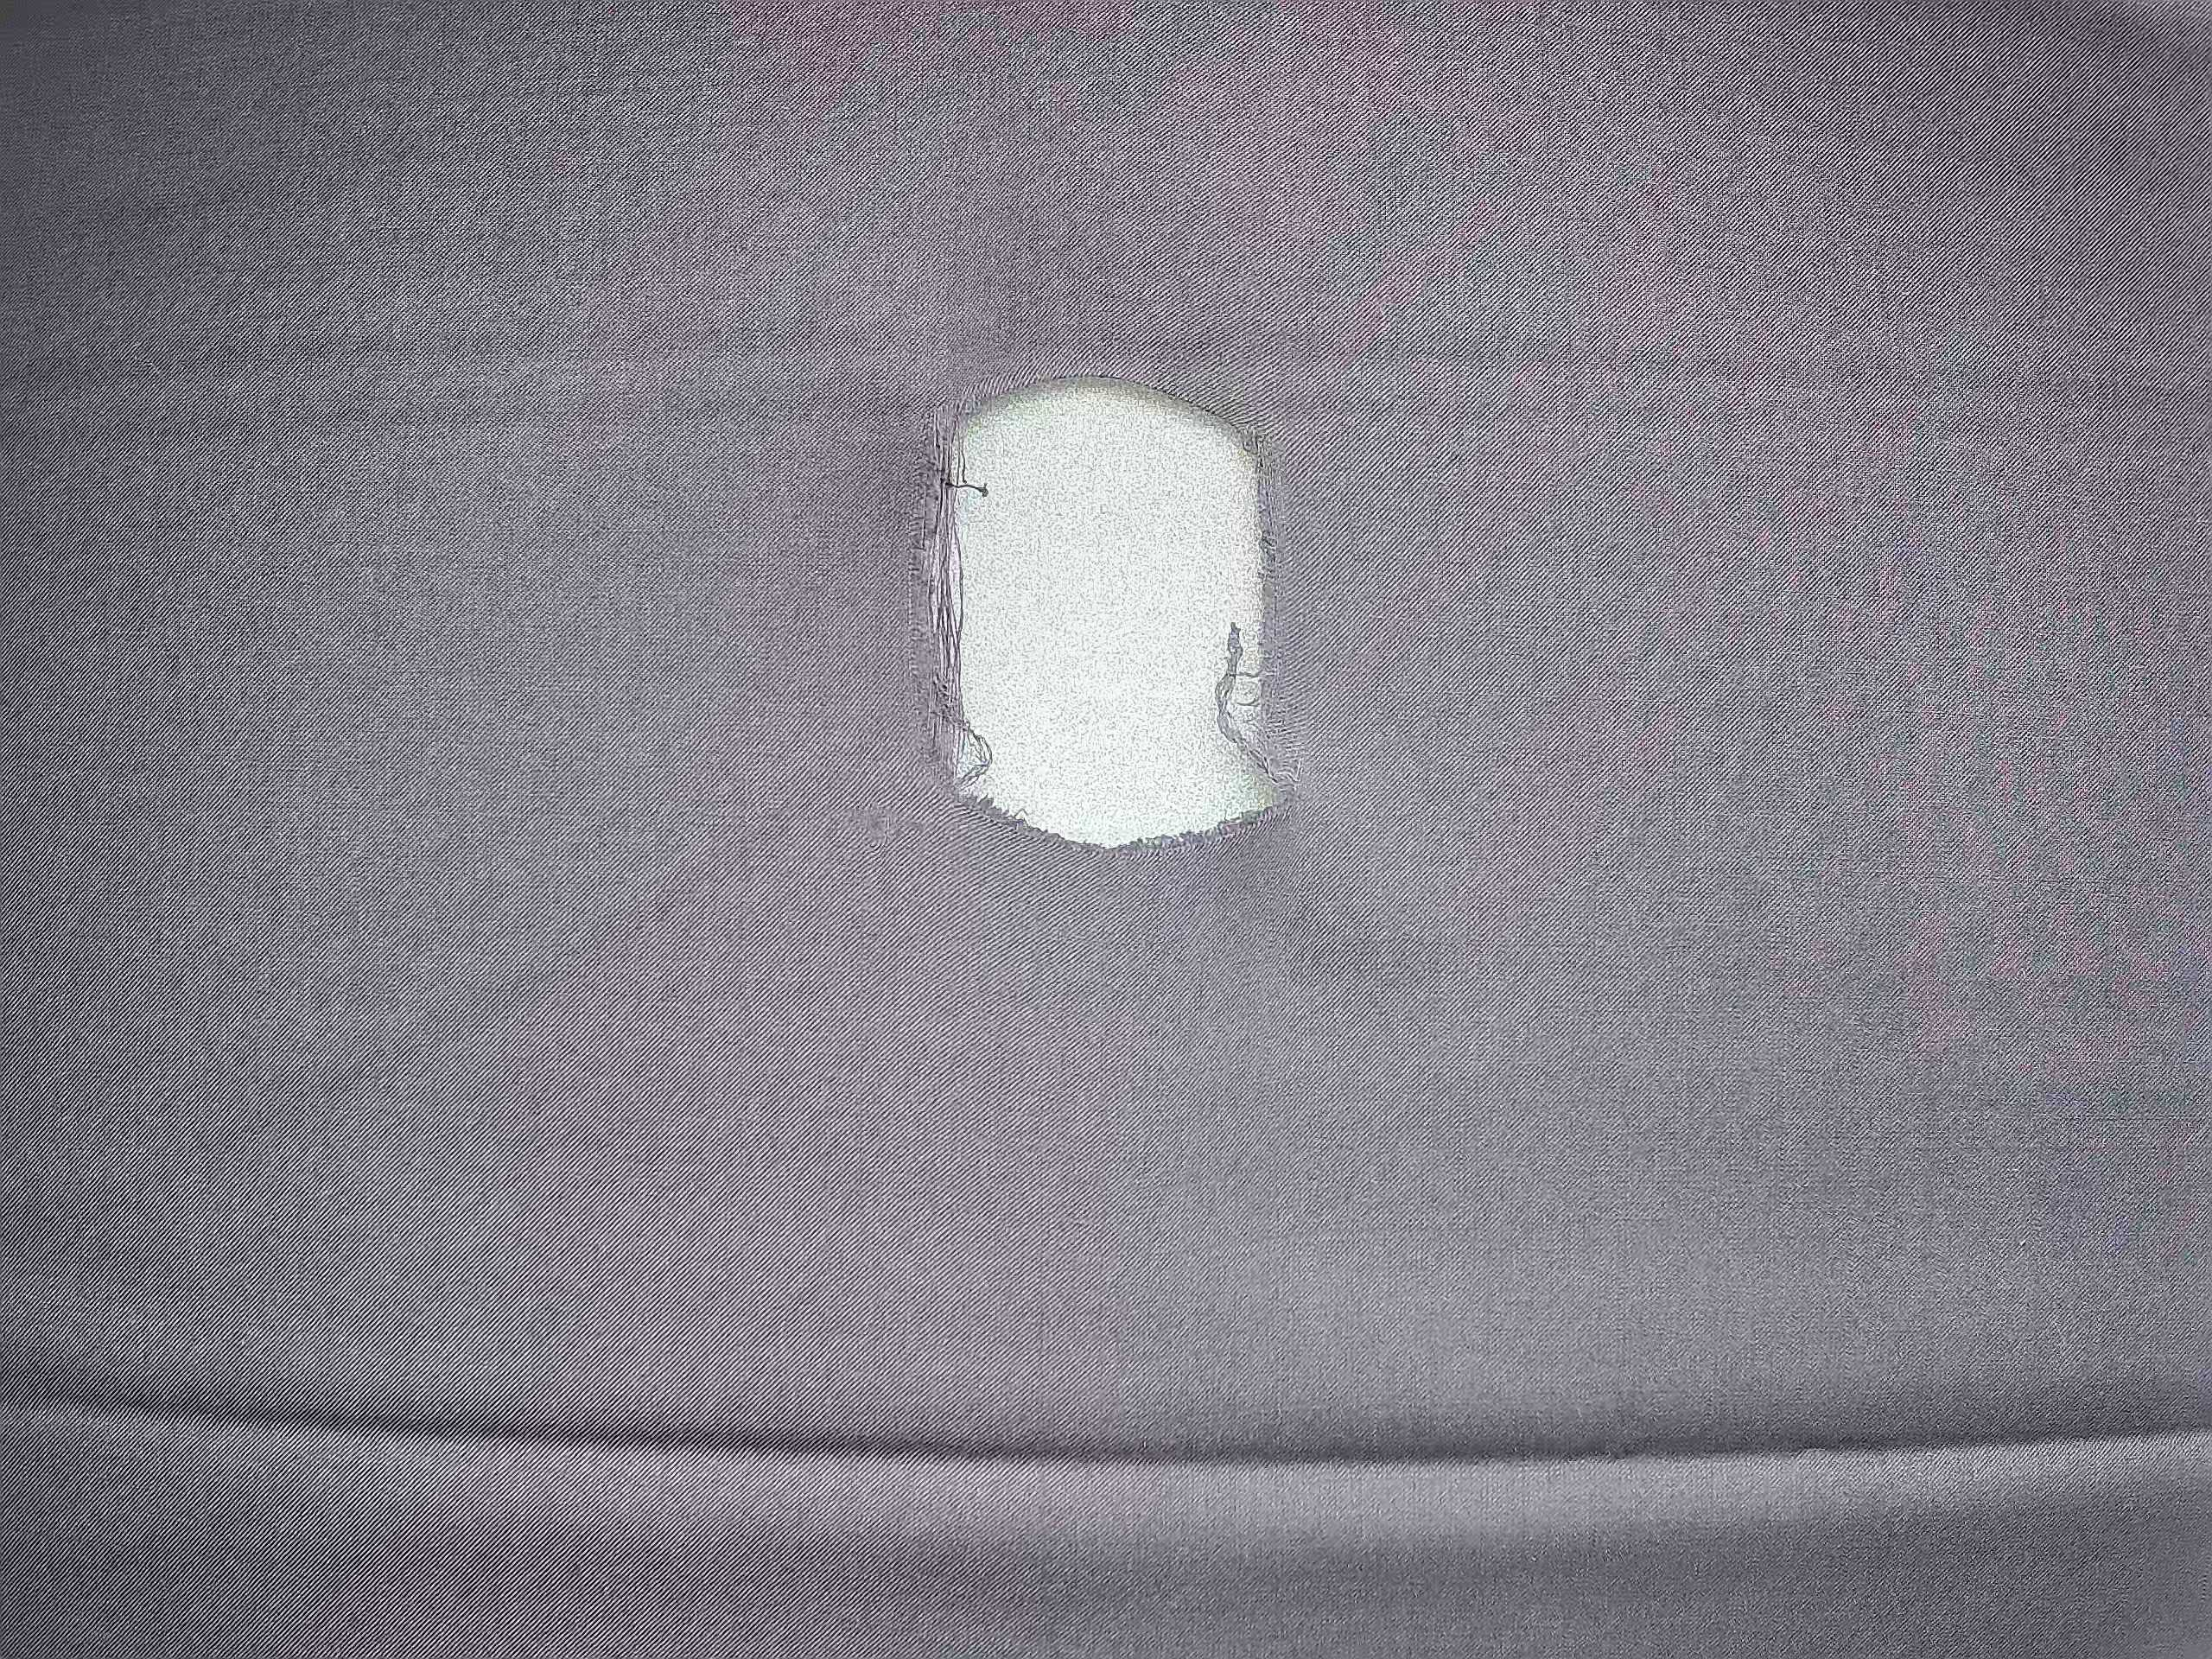brushed-hole: (890, 331, 1332, 877)
